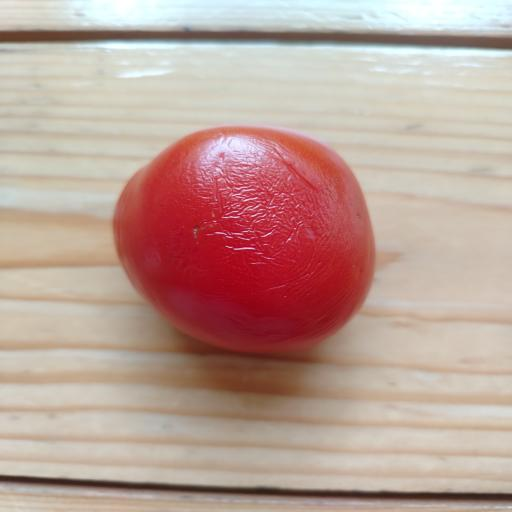spoiled: (193, 226, 199, 244)
